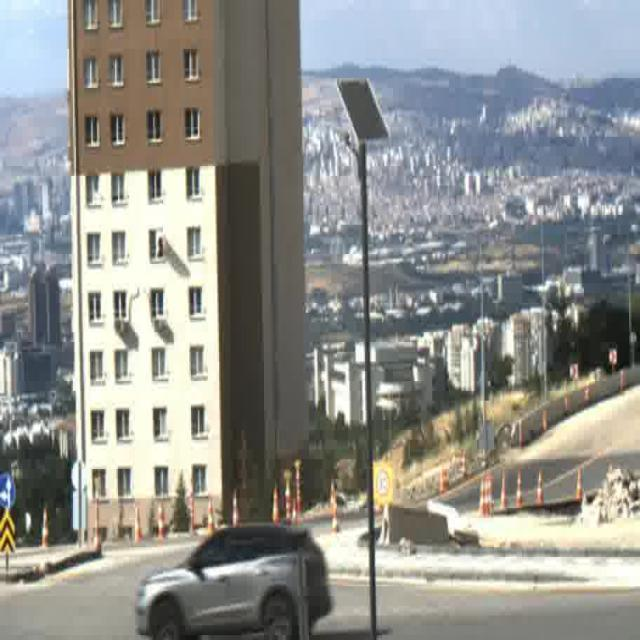Car: (134, 520, 335, 638)
